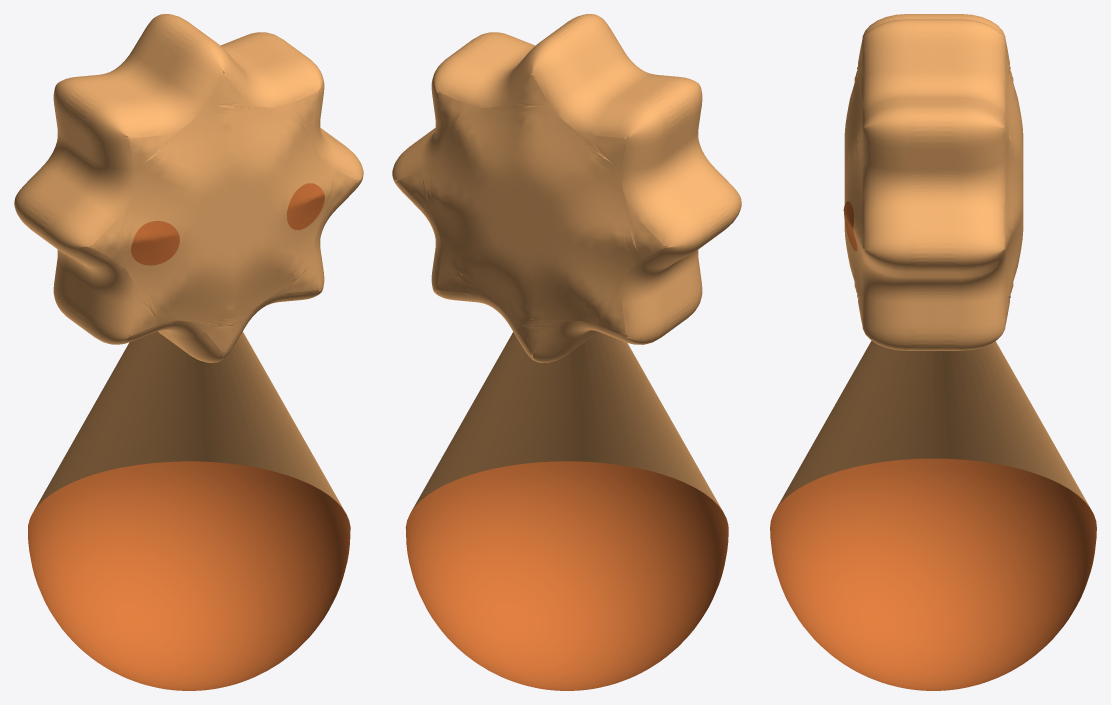
File: cone-star-orange.glb
The picture shows the model from 3 angles, left to right: view 1: azimuth 30°, elevation 25°; view 2: azimuth 150°, elevation 25°; view 3: azimuth 270°, elevation 25°; orthographic projection.
Parts seen in each view (by area): view 1: head-shell, bowl, cone, eye (×2); view 2: head-shell, bowl, cone; view 3: bowl, head-shell, cone.
Part boxes in pixels (x1,y1,x2,y2): head-shell: (14,14,363,362); bowl: (28,461,350,690); cone: (34,331,344,511); eye (×2): (131,183,324,265); head-shell: (392,14,741,362); bowl: (405,461,728,690); cone: (411,331,722,511); bowl: (770,458,1096,690); head-shell: (844,14,1023,350); cone: (777,340,1089,506).
Bounding box in the file's own units: 1.09 × 2.21 × 1.
